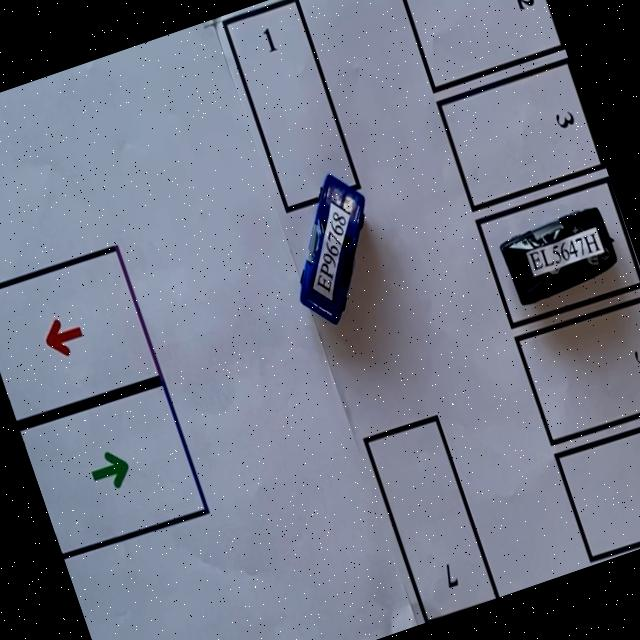car: (501, 208, 615, 303), (300, 174, 365, 324), (274, 267, 332, 331)
